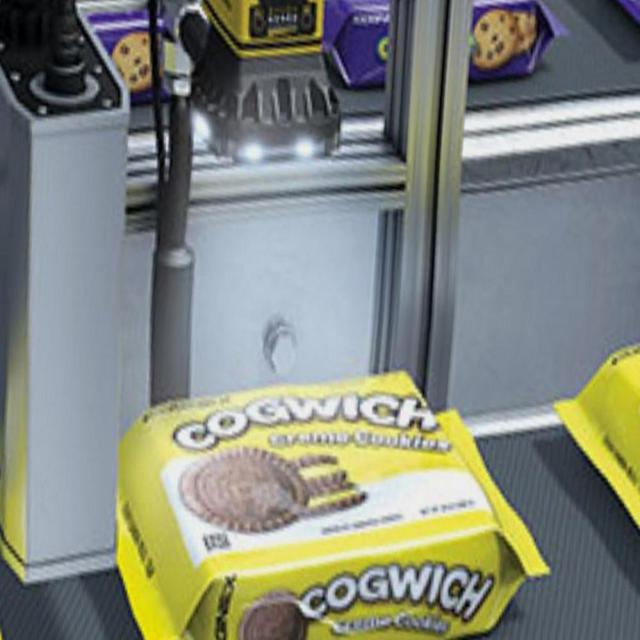food: (113, 367, 551, 638)
